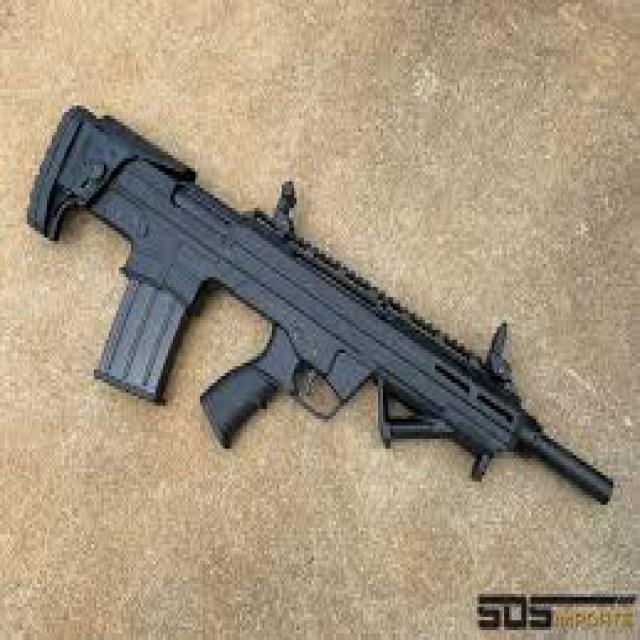long weapon: (2, 70, 632, 573)
